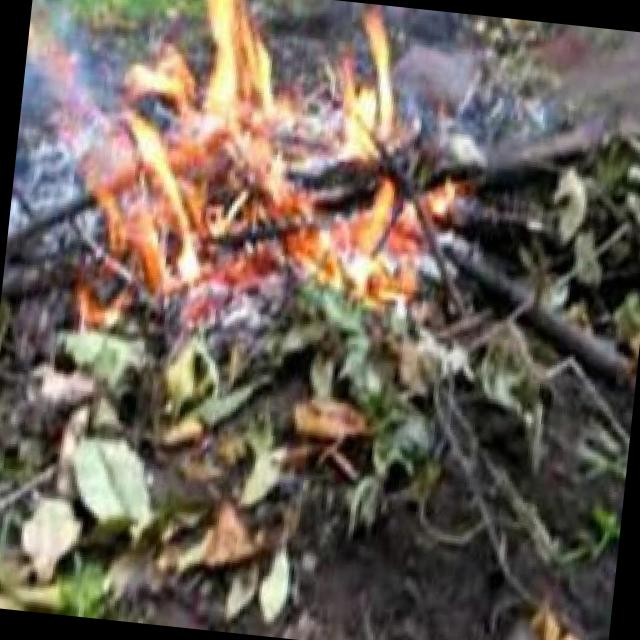Fire: (1, 0, 485, 339)
